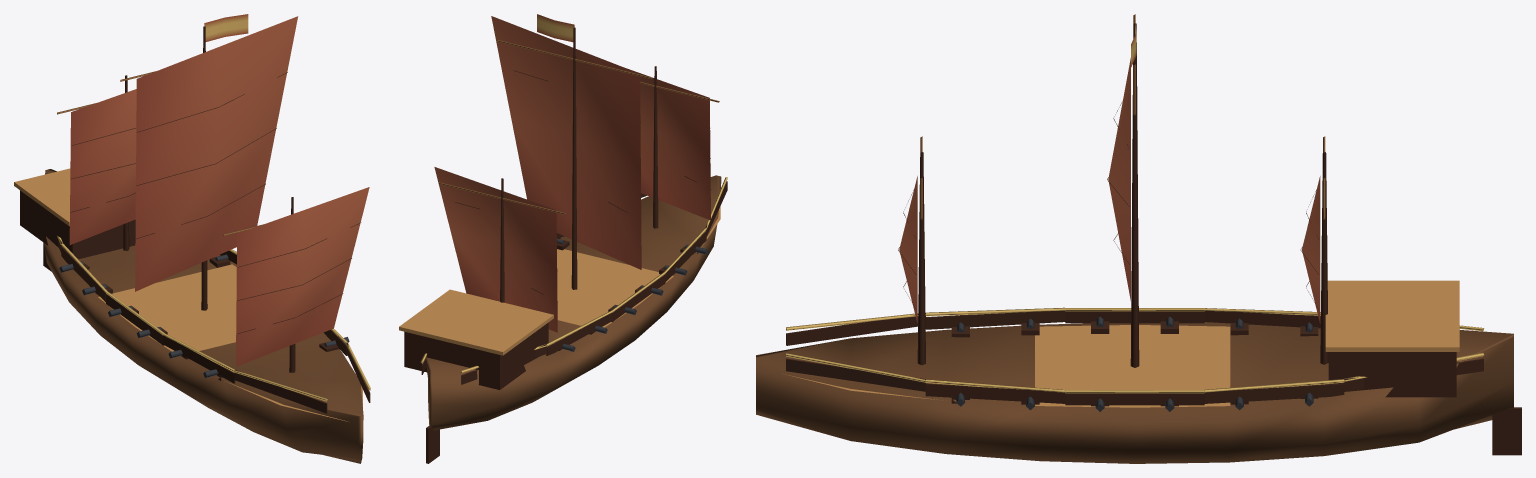
The model's file is fuchuan-lod2.glb.
3 views of the same model, side by side, from view 1: azimuth 30°, elevation 25°; view 2: azimuth 150°, elevation 25°; view 3: azimuth 270°, elevation 25° (orthographic). The views are drawn at different scales.
Visible parts, largest first — view 1: sail_02, hull, sail_03, sail_01, deck, fittings_wood, sterncastle_body, fittings_deck, fittings_trim, flag_01, mast_timber_02; view 2: sail_02, hull, sail_01, sail_03, fittings_deck, deck, sterncastle_body, fittings_wood, mast_timber_02, fittings_trim, mast_timber_03, flag_01 (+3 smaller); view 3: hull, fittings_wood, deck, fittings_deck, sterncastle_body, fittings_trim, sail_02, mast_timber_02, sail_01, sail_03, rudder_pivot, mast_timber_03 (+1 smaller).
Boxes of the visible parts, box(x1,y1,x2,y2) form: sail_02: box(135, 16, 298, 291); hull: box(43, 169, 363, 463); sail_03: box(236, 187, 369, 366); sail_01: box(69, 89, 136, 244); deck: box(98, 264, 362, 421); fittings_wood: box(58, 239, 370, 413); sterncastle_body: box(20, 190, 135, 259); fittings_deck: box(14, 168, 70, 226); fittings_trim: box(57, 236, 370, 401); flag_01: box(204, 14, 248, 41); mast_timber_02: box(201, 26, 207, 310); sail_02: box(491, 16, 641, 269); hull: box(425, 175, 721, 430); sail_01: box(434, 167, 557, 332); sail_03: box(628, 69, 710, 220); fittings_deck: box(399, 289, 553, 355); deck: box(557, 206, 720, 327); sterncastle_body: box(404, 322, 548, 389); fittings_wood: box(421, 181, 727, 384); mast_timber_02: box(571, 27, 577, 289); fittings_trim: box(421, 177, 727, 373); mast_timber_03: box(653, 66, 658, 228); flag_01: box(537, 14, 574, 42); hull: box(756, 322, 1513, 463); fittings_wood: box(786, 310, 1483, 406); deck: box(785, 325, 1230, 407); fittings_deck: box(1325, 280, 1459, 351); sterncastle_body: box(1328, 352, 1456, 397); fittings_trim: box(786, 307, 1484, 393); sail_02: box(1107, 58, 1130, 300); mast_timber_02: box(1130, 23, 1139, 367); sail_01: box(1300, 176, 1320, 323); sail_03: box(898, 176, 917, 323); rudder_pivot: box(1492, 407, 1521, 455); mast_timber_03: box(917, 152, 925, 365).
Bounding box in the file's own units: 10.4 × 20.27 × 32.34.
